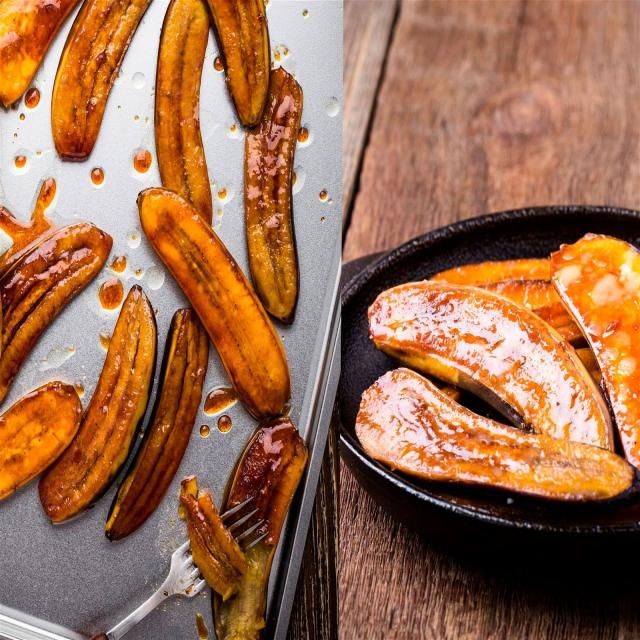platano: (362, 282, 630, 504), (125, 180, 298, 424)
